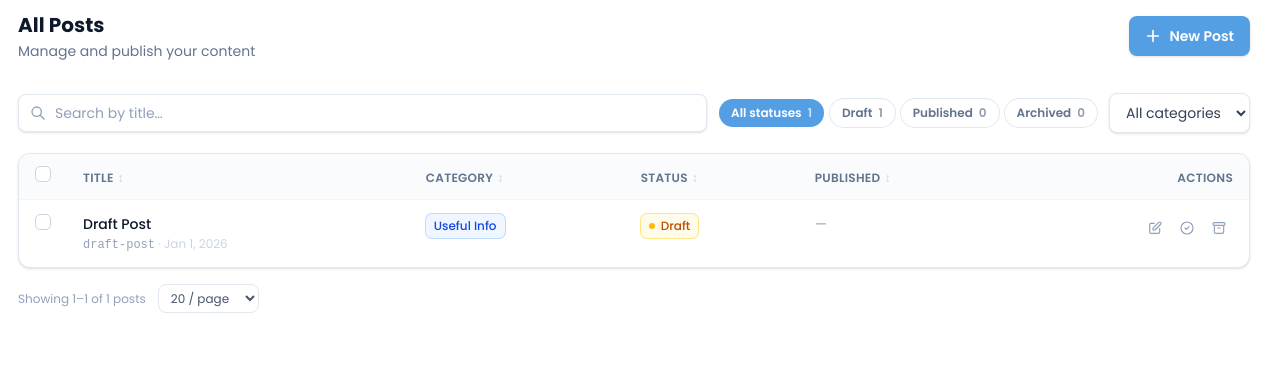
Test: DashboardClient › shows filtered empty copy on search miss
This screenshot has width=1267, height=381.
In the search field with placeholder "Search by title…": (363, 113) [18,94,707,132], type "zzzz-no-match"
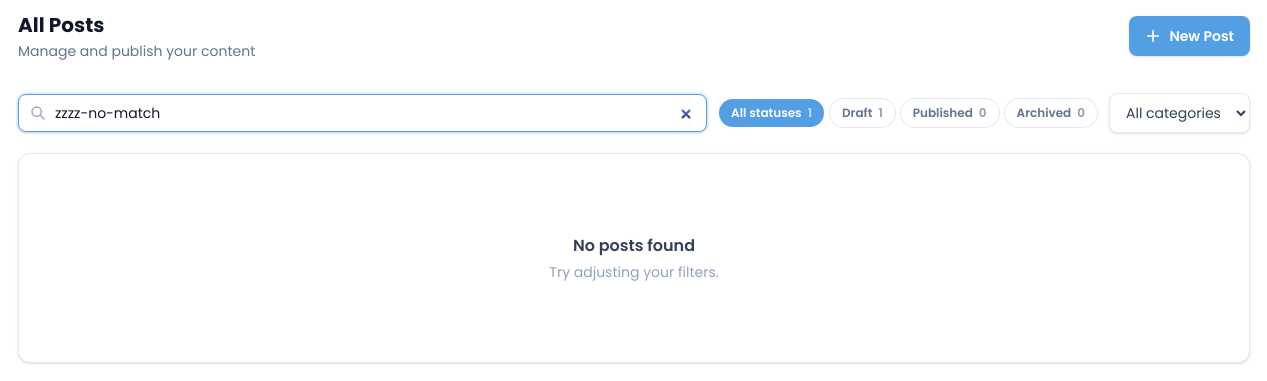
Now the text "Try adjusting your filters." is shown, box [549,262,719,282]
